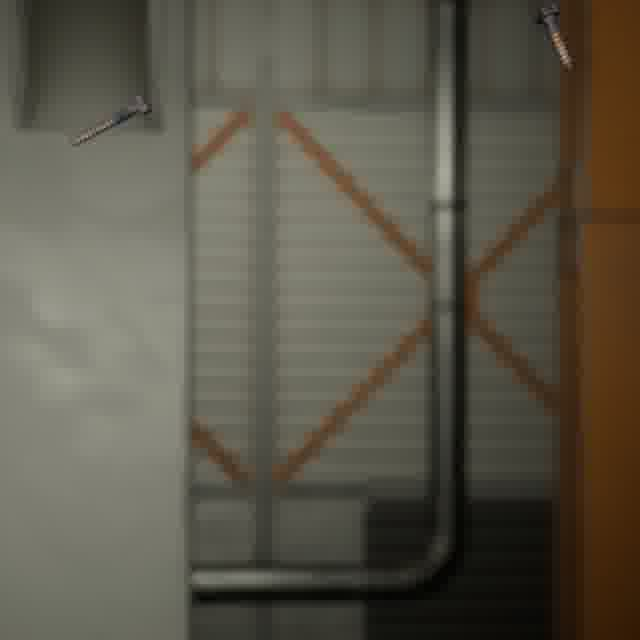bolt: (64, 88, 156, 151), (528, 0, 578, 74)
